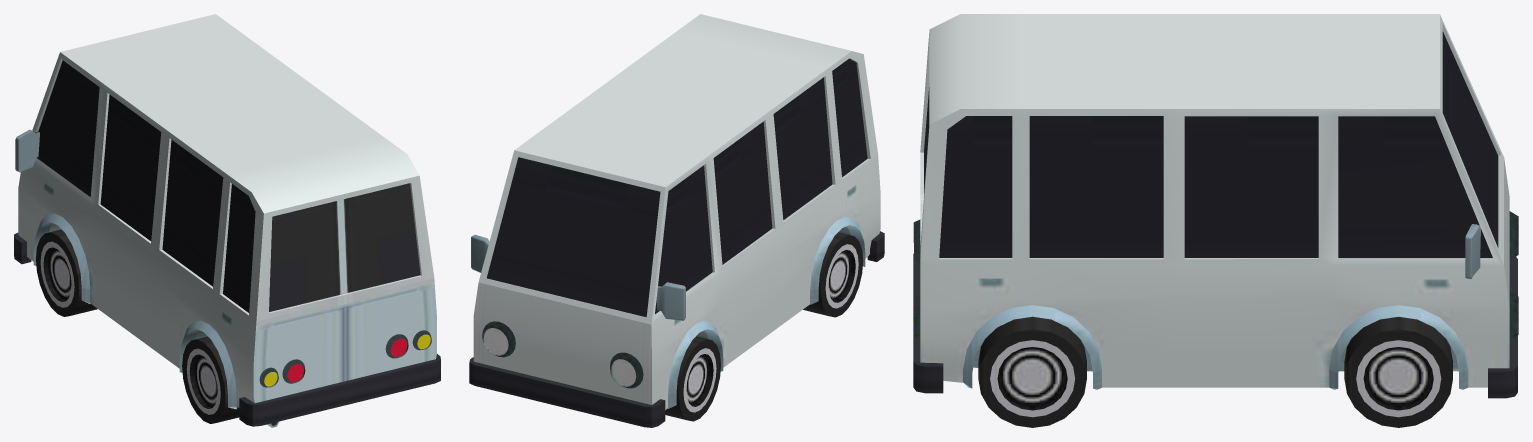
3 views of the same model, side by side, from view 1: azimuth 30°, elevation 25°; view 2: azimuth 150°, elevation 25°; view 3: azimuth 270°, elevation 25° (orthographic). The views are drawn at different scales.
Parts seen in each view (by area): view 1: car_005_0; view 2: car_005_0; view 3: car_005_0.
Part boxes in pixels (bbox=[...]): car_005_0: bbox=[14, 14, 440, 427]; car_005_0: bbox=[469, 14, 884, 427]; car_005_0: bbox=[913, 14, 1518, 427].
Bounding box in the file's own units: 0.7119 × 0.758 × 1.35.
Materials: 1 (1 with a texture image).
